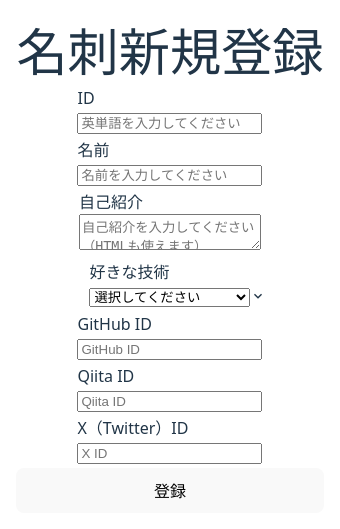
it: RegisterPage › 紹介文がないときにエラーメッセージがでる
Type "test-id" into the field with placeholder "英単語を入力してください" at (170, 123), box top-left (78, 113), bottom-right (262, 134)
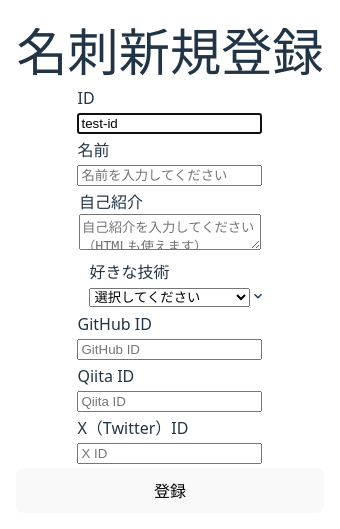
Type "テスト" into the field with placeholder "名前を入力してください" at (170, 175), box top-left (78, 165), bottom-right (262, 186)
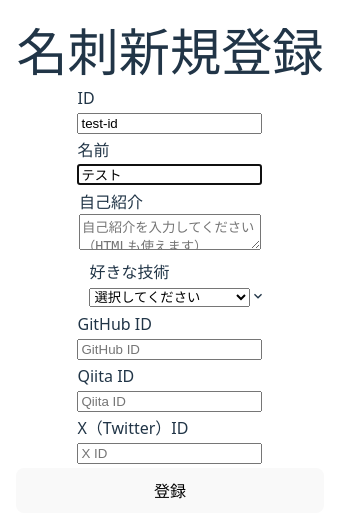
Click the button "登録" at (170, 490), box top-left (16, 468), bottom-right (324, 513)
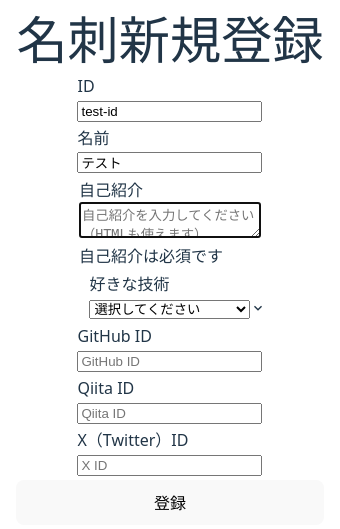
Now the text "自己紹介は必須です" is shown, box top-left (79, 245), bottom-right (223, 267)
